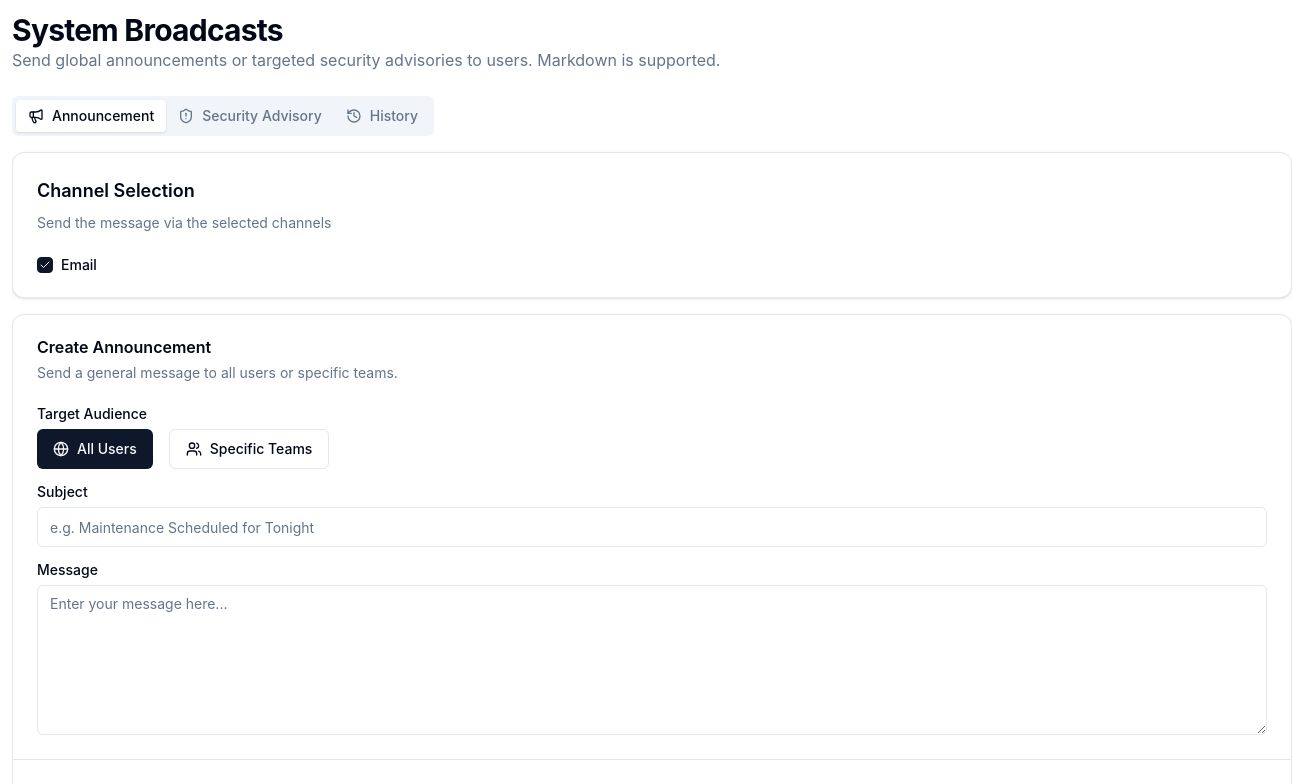
Test case: Broadcasts team picker › names the team checkboxes as a group by their label
Click the button "Specific Teams" at (249, 449), box top-left (169, 429), bottom-right (329, 469)
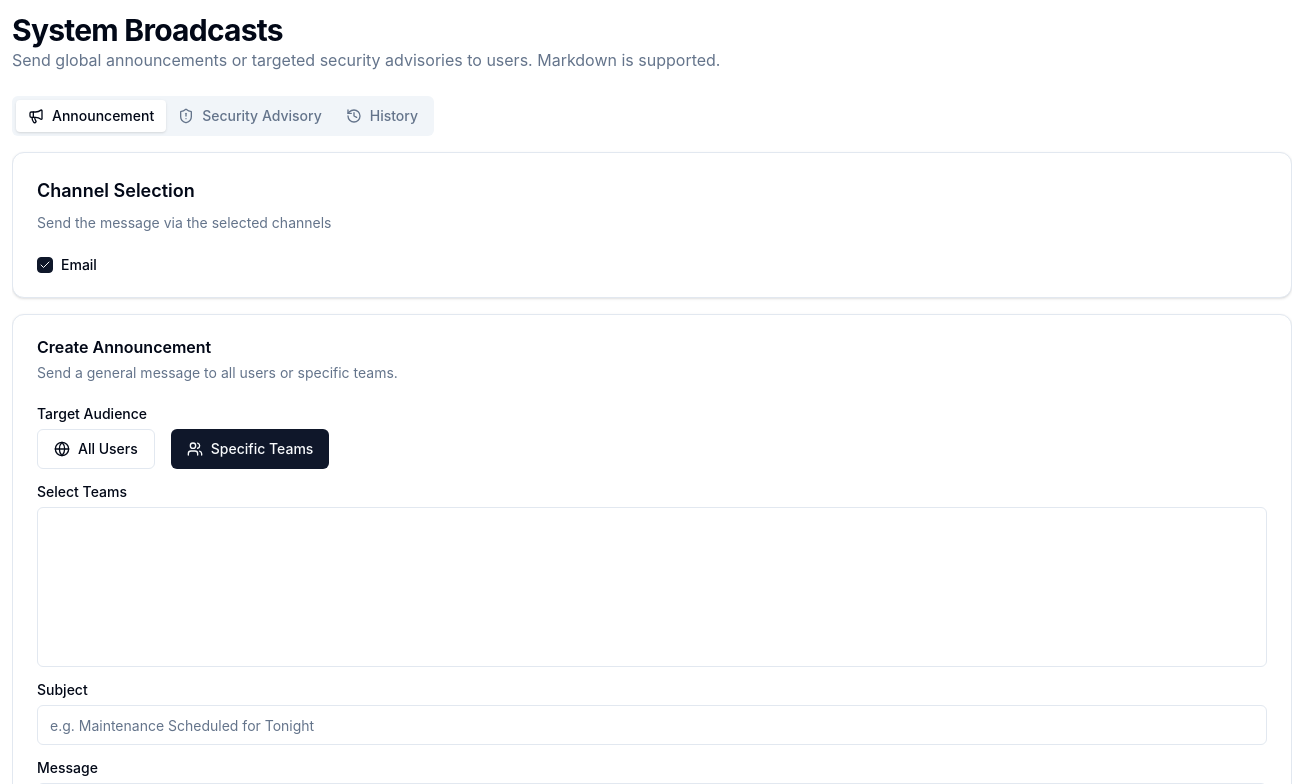
Check: the element named "Select Teams" below "Select Teams" is shown, box top-left (37, 507), bottom-right (1267, 667)
